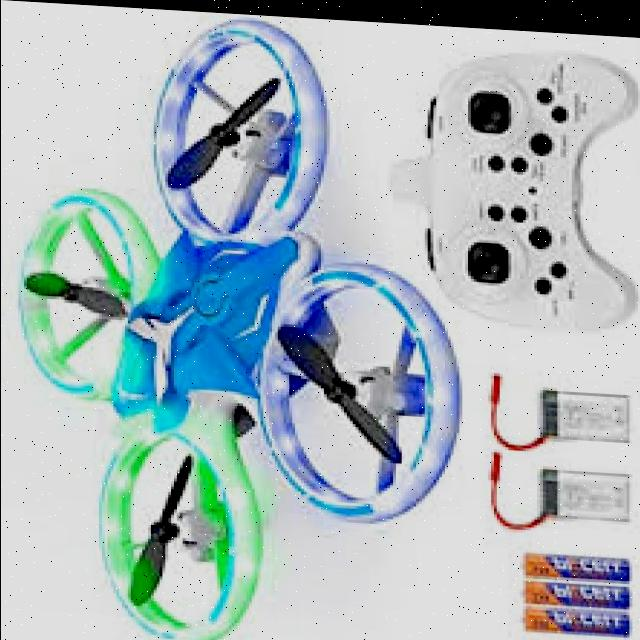drone: (8, 0, 468, 640)
